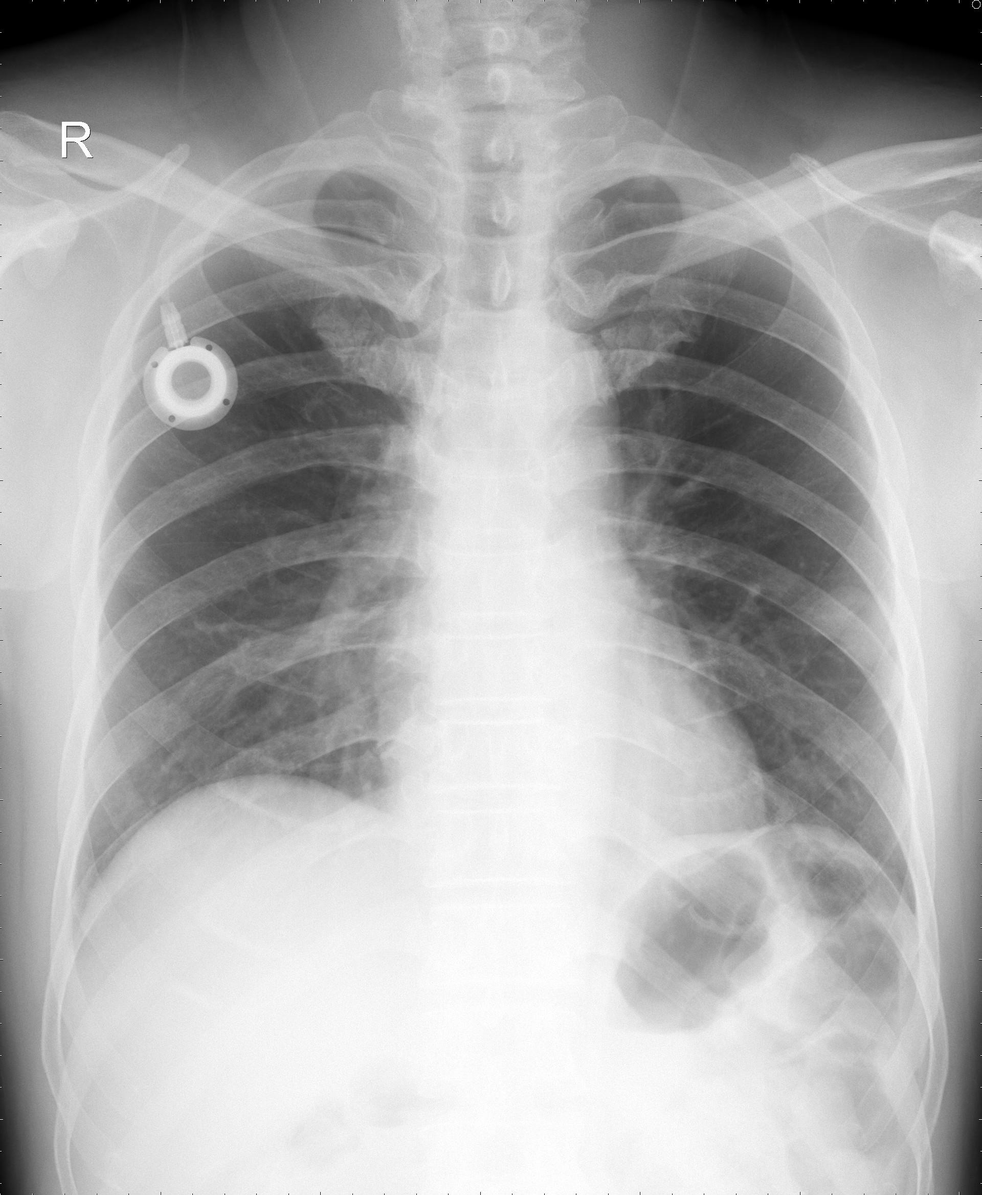Aortic enlargement: (505, 328, 622, 457)
Pleural thickening: (624, 177, 666, 192)
